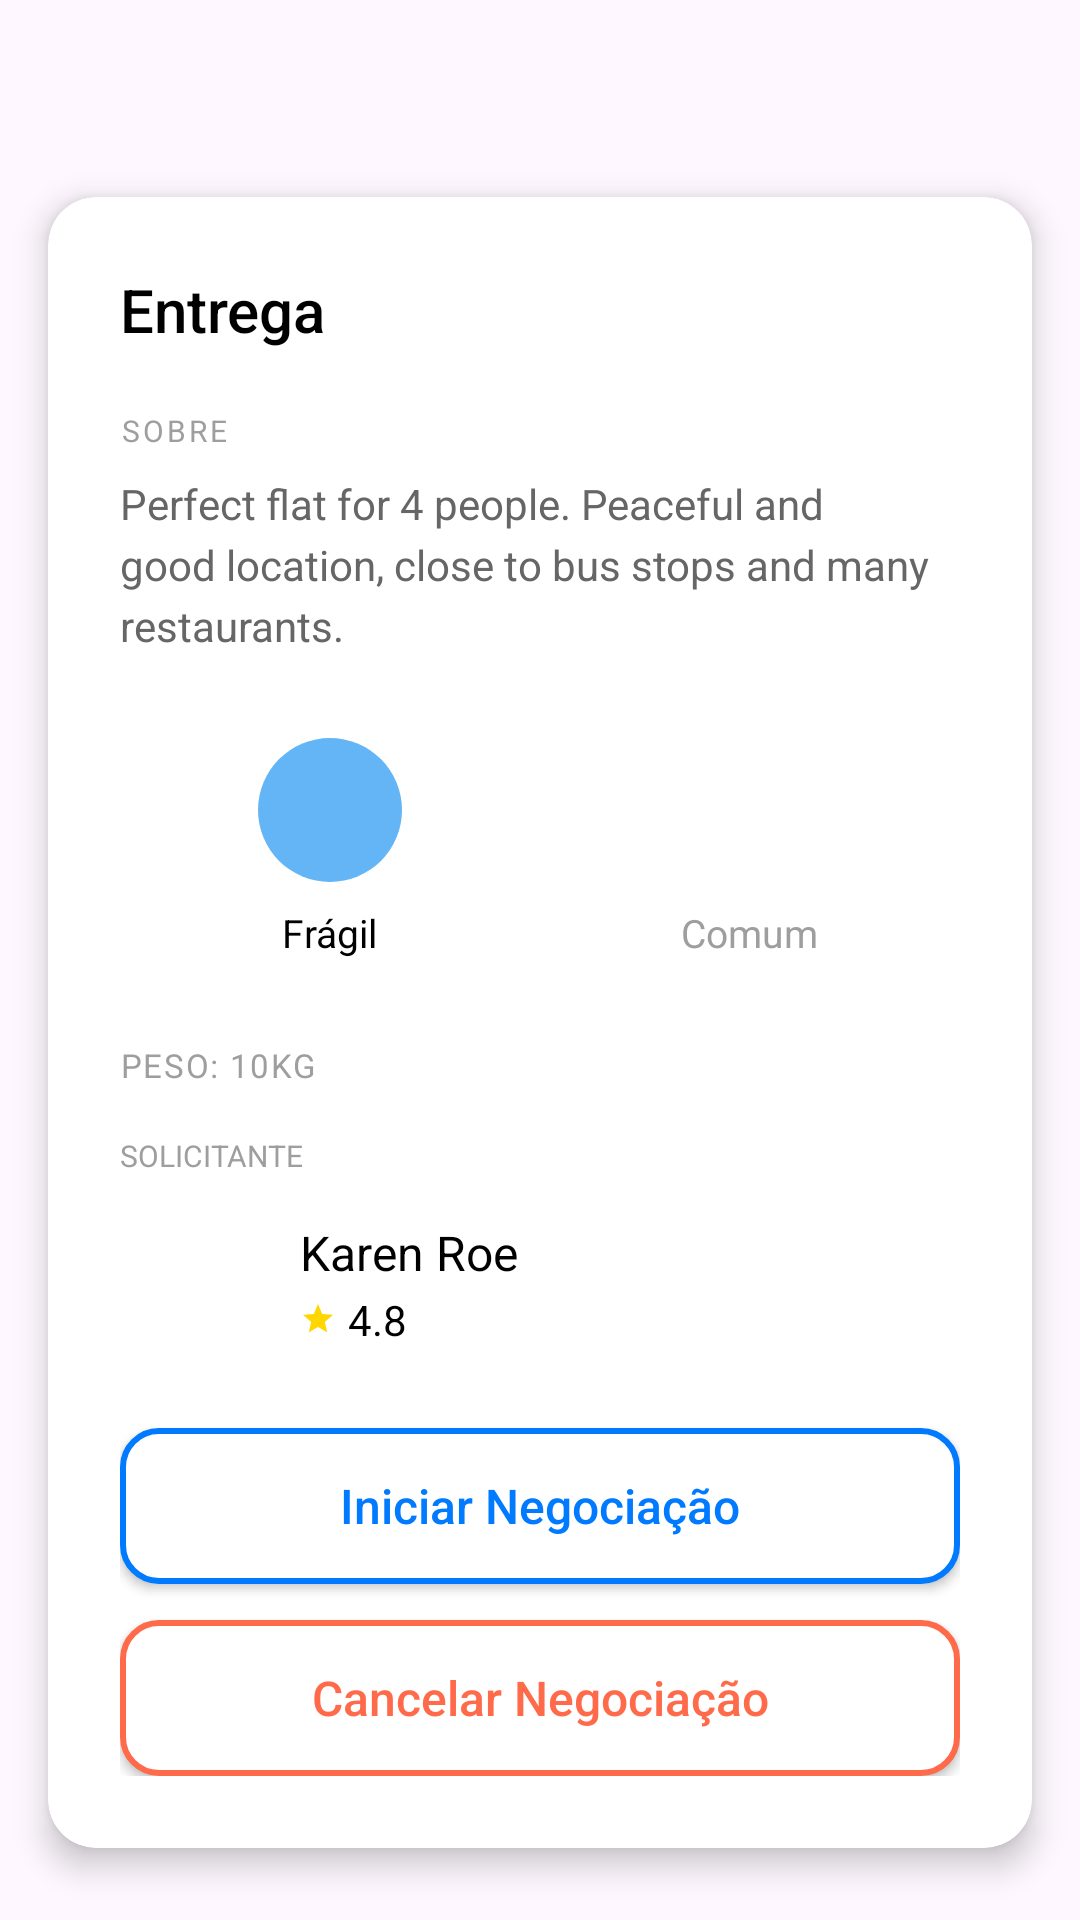

Screen size 1080×1920. Icon name, then its box in pixels as (x1, y1, x2, y2):
star: (303, 1304, 333, 1333)
